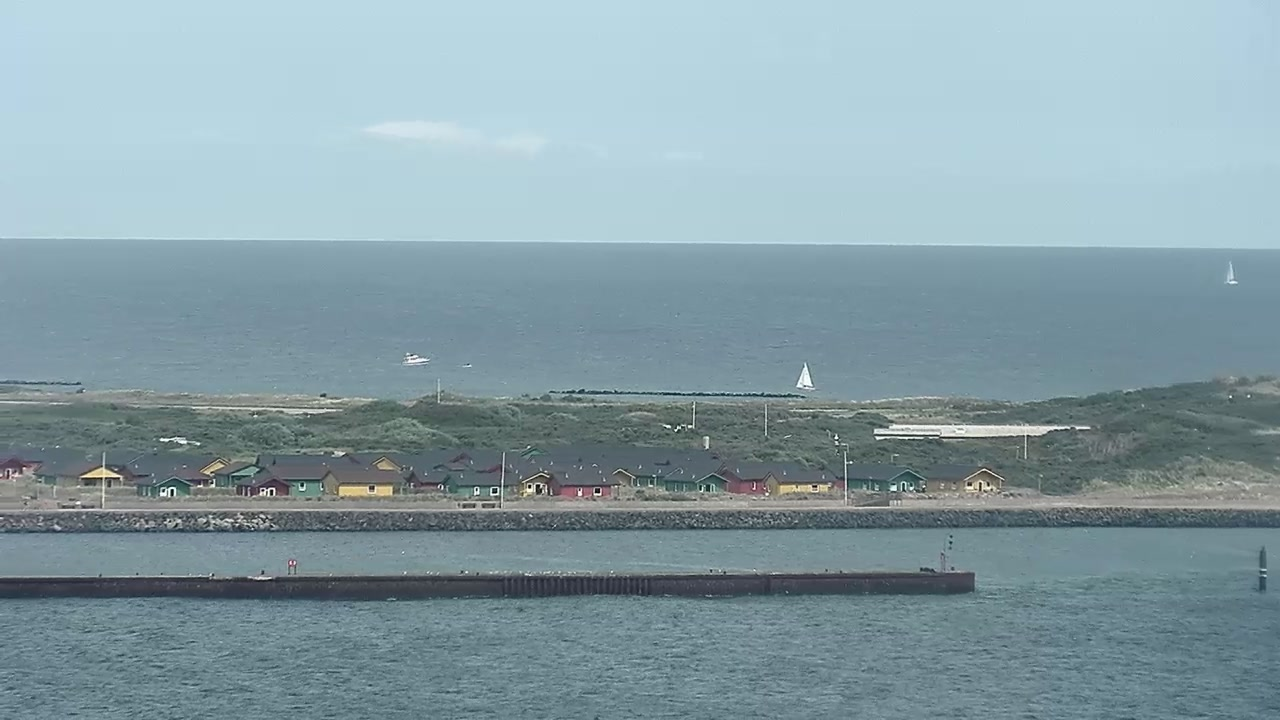sea: (795, 360, 815, 391), (400, 352, 431, 366), (1223, 258, 1239, 284), (462, 362, 473, 368)
